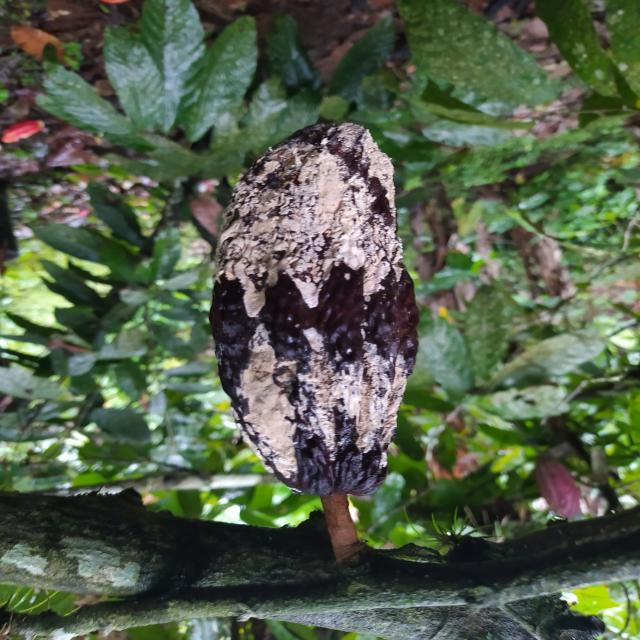Monilia: (210, 123, 418, 500)
